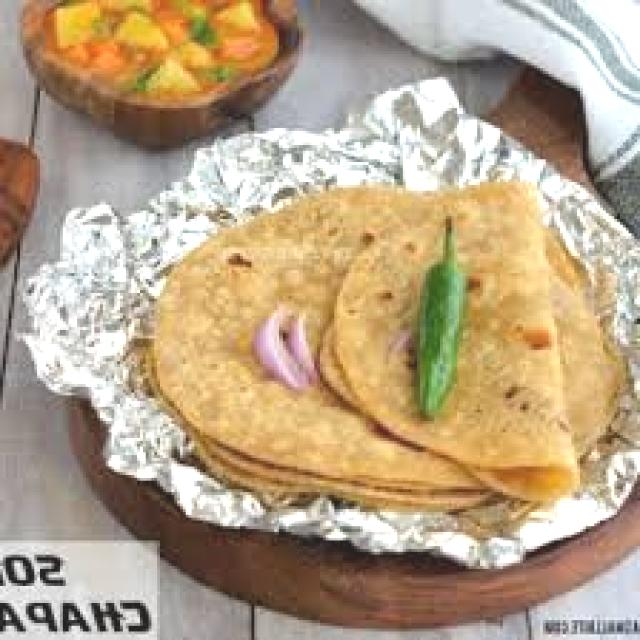chapathi: (146, 185, 634, 504), (321, 171, 583, 502)
